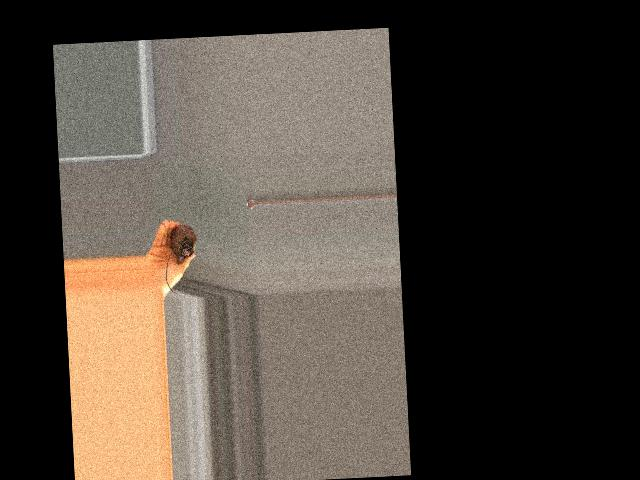beet: (162, 215, 198, 294)
